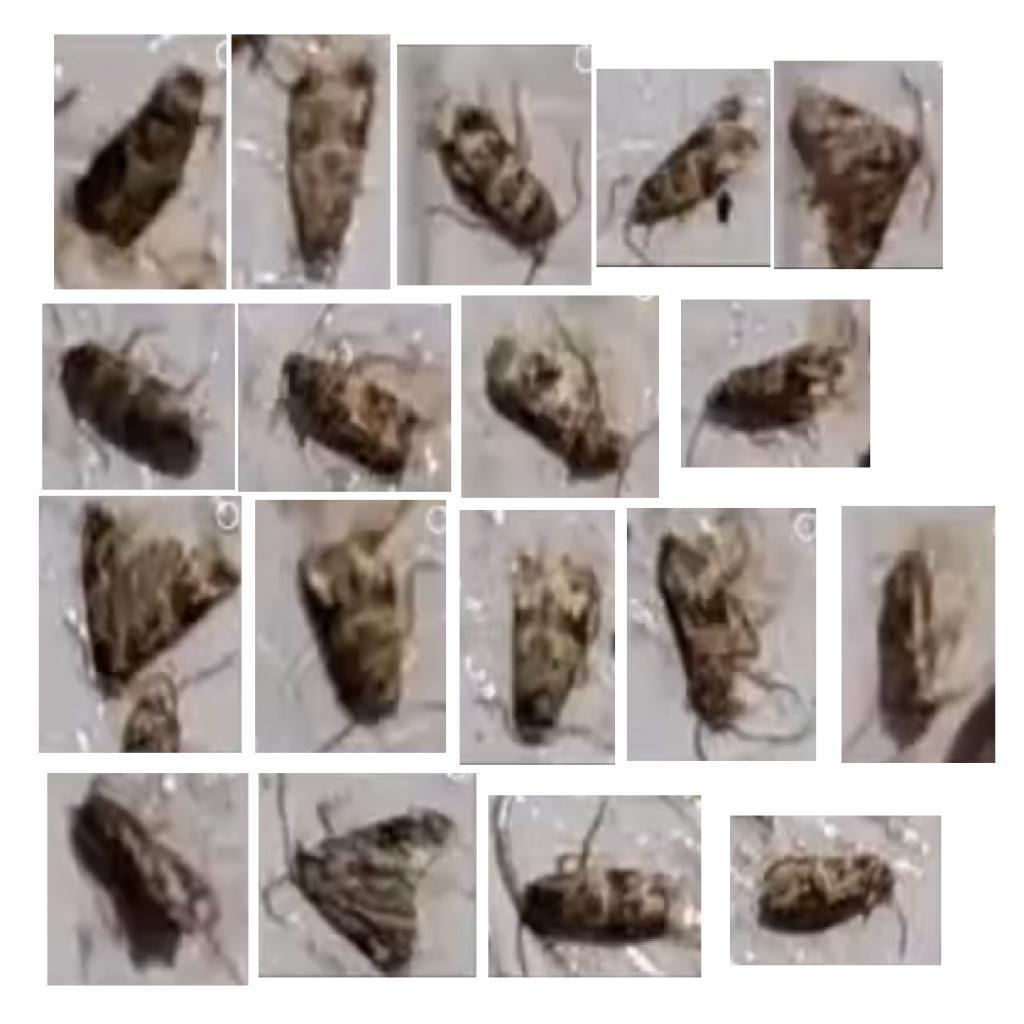grape_moth: (258, 777, 460, 974), (650, 518, 808, 745), (74, 500, 238, 706), (495, 804, 688, 974), (59, 784, 230, 974), (420, 76, 584, 274), (476, 306, 654, 480), (784, 64, 936, 264), (290, 520, 428, 739), (606, 79, 768, 261), (62, 60, 210, 254), (272, 320, 444, 478), (54, 316, 216, 480), (688, 310, 866, 454), (280, 44, 378, 280), (505, 546, 603, 749), (868, 538, 960, 753), (750, 840, 914, 952)
